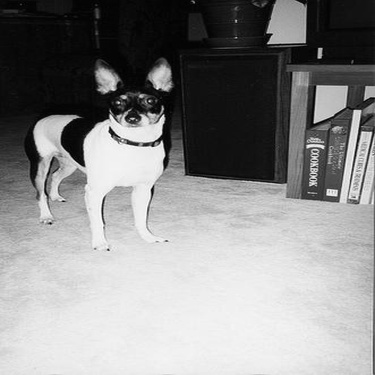dog: (14, 51, 184, 258)
